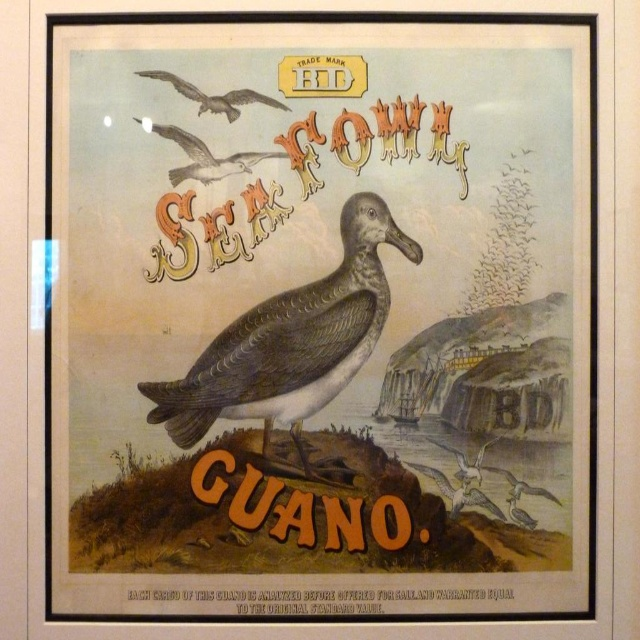Duck: (136, 181, 428, 476)
